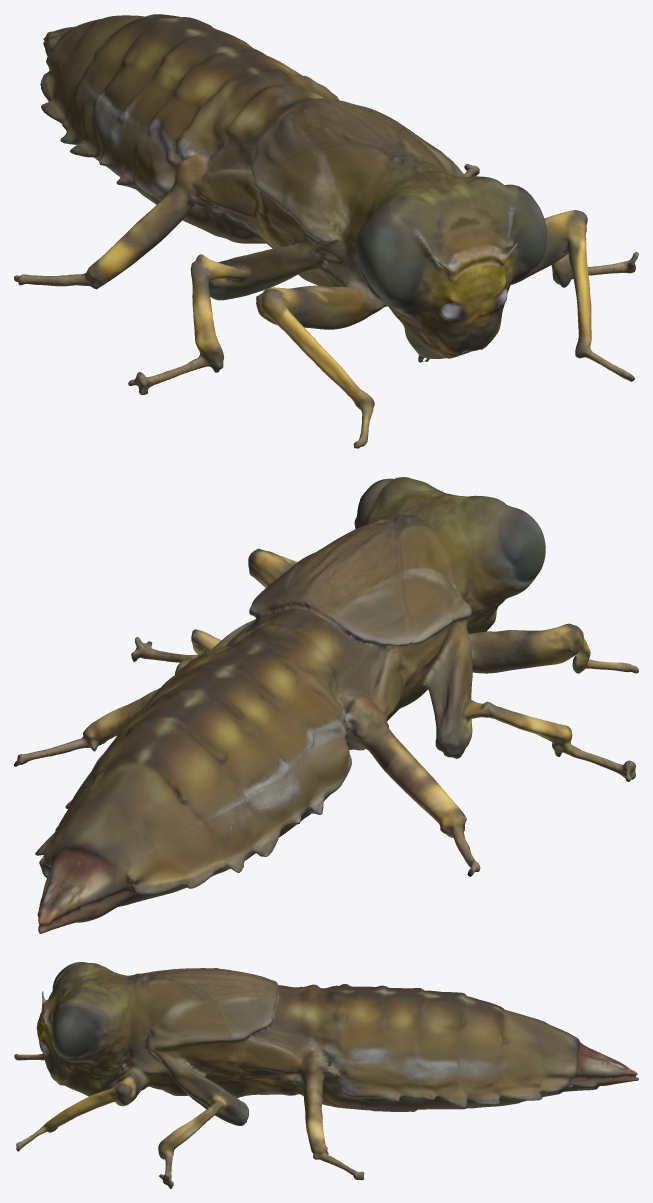
The model's file is Meshy_AI_Dragonfly_nymph_0425140434_texture.fbx.
3 renders of one model, top to bottom at view 1: azimuth 30°, elevation 25°; view 2: azimuth 150°, elevation 25°; view 3: azimuth 270°, elevation 25°, orthographic. The views are drawn at different scales.
Parts seen in each view (by area): view 1: Mesh_0; view 2: Mesh_0; view 3: Mesh_0.
Boxes of the visible parts, x1=… form: Mesh_0: x1=14, y1=14, x2=638, y2=448; Mesh_0: x1=14, y1=477, x2=638, y2=933; Mesh_0: x1=14, y1=962, x2=638, y2=1188.
Size of the model in its own units: 127 by 47.3 by 200.
Materials: 1 (1 with a texture image).
